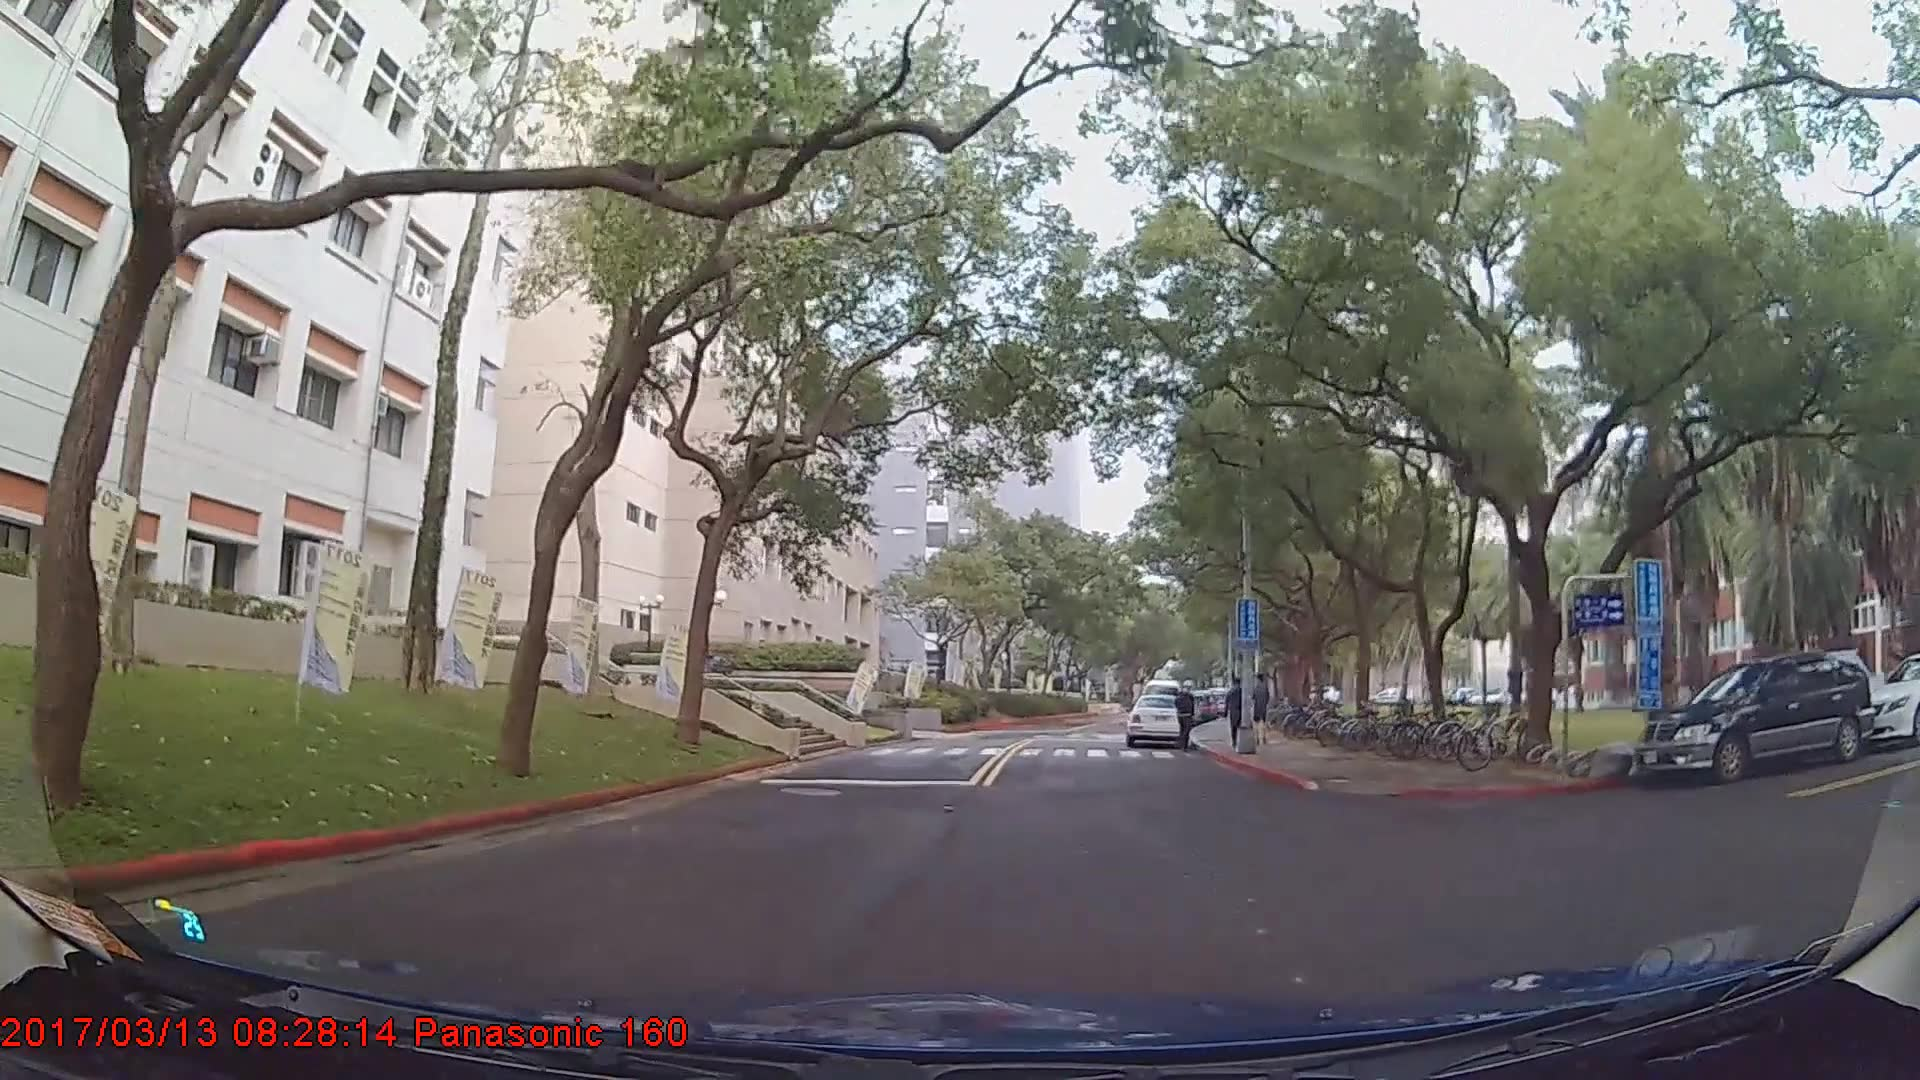pedestrian: (1226, 677, 1251, 749), (1172, 679, 1195, 753)
vehicle: (1634, 646, 1877, 785), (1861, 652, 1920, 749), (1122, 692, 1187, 745)
